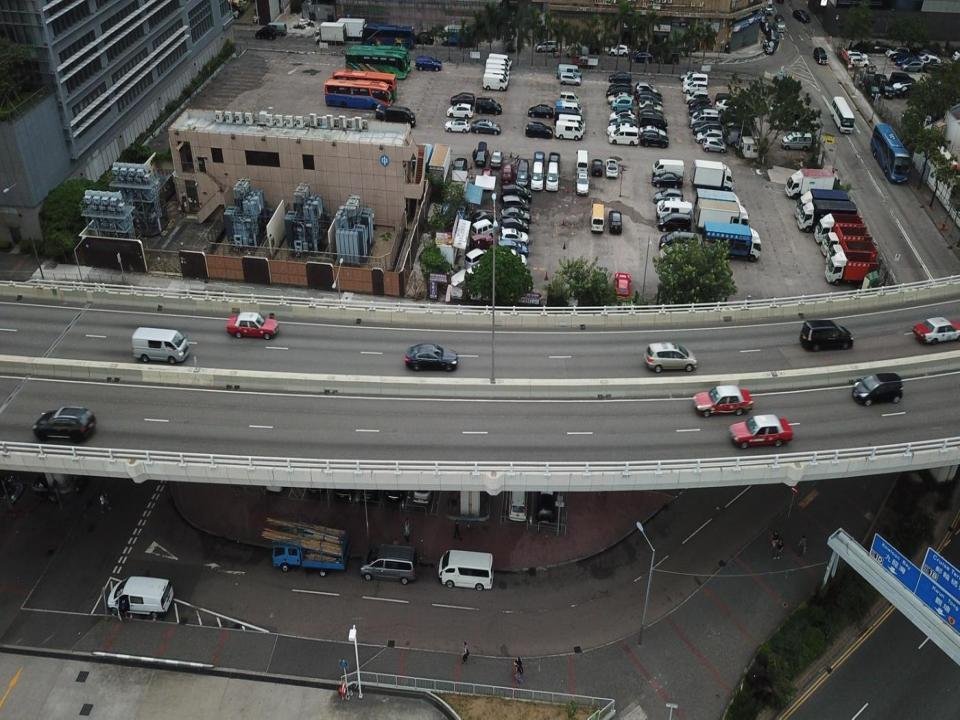bus: (869, 121, 910, 184), (324, 76, 392, 110), (345, 48, 407, 82), (333, 68, 397, 100), (349, 45, 410, 74), (359, 21, 414, 50), (830, 95, 854, 134)
car: (106, 575, 172, 626), (359, 543, 418, 588), (33, 404, 96, 444), (728, 412, 794, 450), (691, 384, 754, 417), (800, 318, 854, 354), (851, 371, 904, 407), (644, 340, 699, 374), (404, 342, 459, 373), (912, 313, 960, 344), (226, 312, 278, 340), (331, 450, 357, 504), (264, 442, 288, 496), (357, 446, 381, 500), (536, 467, 558, 525), (384, 452, 406, 503), (508, 470, 527, 522), (413, 457, 433, 506), (658, 230, 698, 252), (660, 242, 696, 265), (496, 246, 528, 270), (500, 181, 533, 204), (497, 224, 530, 247), (657, 212, 692, 233), (781, 130, 813, 152), (608, 125, 640, 147), (496, 236, 528, 258), (464, 246, 490, 270), (499, 216, 531, 235), (500, 194, 530, 214), (470, 220, 500, 240), (500, 206, 532, 224), (694, 127, 724, 146), (613, 270, 632, 300), (471, 207, 498, 228), (655, 196, 688, 213), (652, 171, 683, 189), (470, 118, 502, 135), (640, 130, 670, 148), (475, 96, 502, 116), (525, 119, 553, 138), (468, 232, 494, 252), (653, 186, 683, 203), (692, 122, 722, 139), (691, 110, 722, 126), (529, 160, 545, 191), (514, 158, 531, 187), (889, 69, 916, 87), (414, 55, 442, 72), (682, 71, 708, 89), (627, 47, 653, 65), (545, 161, 560, 192), (605, 121, 638, 135), (655, 47, 679, 66), (526, 103, 552, 120), (702, 137, 727, 154), (634, 88, 664, 102), (444, 117, 470, 133), (610, 94, 634, 111), (692, 108, 719, 123), (606, 207, 622, 232), (605, 84, 633, 98), (638, 124, 666, 138), (714, 97, 740, 112), (446, 102, 472, 117), (558, 71, 582, 87), (683, 80, 708, 95), (715, 91, 738, 107), (894, 84, 917, 100), (608, 108, 636, 121), (688, 95, 712, 110), (637, 92, 661, 107), (608, 39, 628, 57), (452, 156, 467, 180), (474, 141, 488, 166), (899, 58, 924, 72), (411, 31, 434, 46), (638, 106, 664, 119), (892, 79, 918, 92), (684, 90, 708, 104), (608, 71, 632, 85), (638, 99, 662, 113), (610, 115, 637, 127), (575, 171, 589, 194), (450, 91, 473, 105), (812, 46, 828, 66), (921, 51, 941, 67), (790, 9, 811, 24), (678, 68, 704, 80), (689, 102, 713, 115), (535, 38, 557, 52), (254, 27, 276, 41), (564, 42, 583, 58), (878, 78, 893, 98), (608, 92, 632, 104), (867, 78, 880, 100), (890, 49, 912, 62), (846, 48, 869, 60), (636, 81, 657, 94), (606, 157, 619, 178), (490, 149, 504, 168), (765, 37, 779, 56), (502, 162, 514, 184), (886, 46, 910, 57), (591, 157, 604, 177), (608, 82, 631, 92), (850, 56, 869, 68), (894, 55, 914, 66), (548, 151, 561, 166), (532, 149, 545, 164)
truck: (261, 513, 347, 583), (701, 220, 762, 264), (823, 248, 880, 287), (797, 200, 857, 236), (695, 198, 750, 234), (794, 188, 850, 223), (814, 212, 866, 249), (821, 225, 870, 260), (689, 157, 735, 194), (785, 167, 835, 201), (695, 186, 744, 218), (826, 240, 877, 270), (314, 20, 346, 48), (439, 23, 475, 47), (332, 16, 366, 40), (500, 25, 518, 52), (773, 12, 786, 33)
van: (436, 547, 495, 591), (132, 326, 190, 366), (374, 102, 416, 129), (655, 199, 692, 224), (722, 120, 756, 144), (653, 158, 684, 182), (555, 118, 583, 142), (637, 110, 667, 132), (557, 112, 586, 134), (481, 72, 508, 92), (590, 201, 606, 233), (555, 106, 581, 123), (555, 101, 582, 117), (488, 51, 512, 69), (576, 52, 600, 70), (556, 63, 581, 80), (486, 62, 509, 80), (485, 69, 509, 85), (484, 57, 509, 72), (574, 149, 589, 173), (559, 88, 579, 106), (266, 21, 288, 37)
